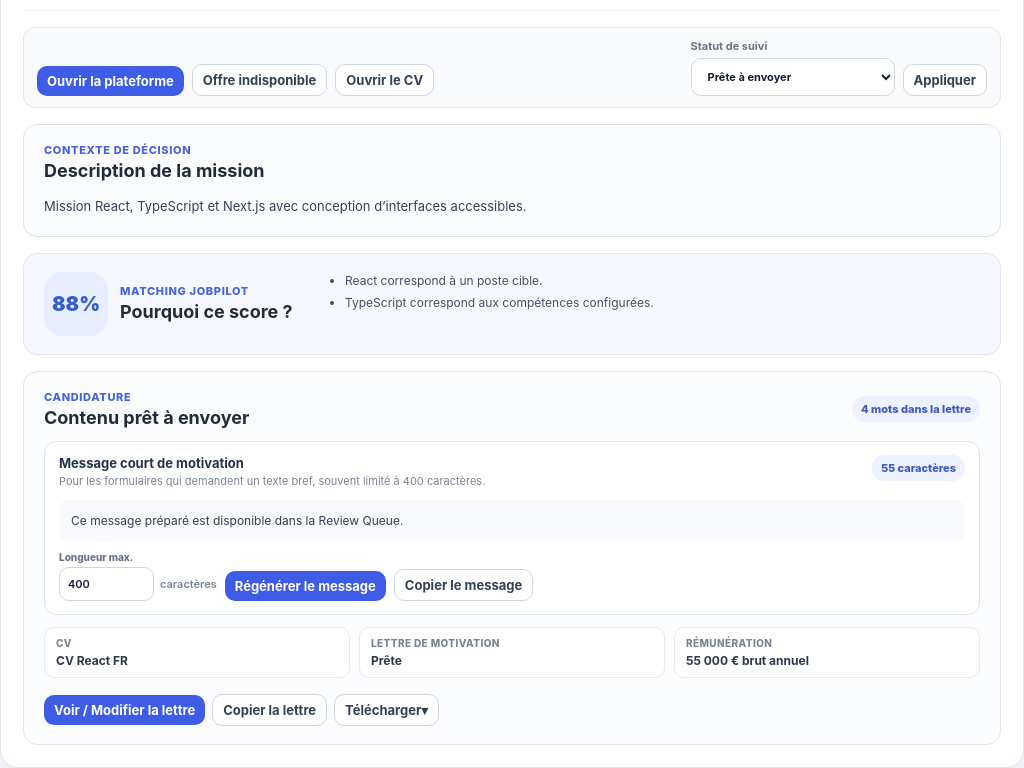
Test: ReviewQueueApplicationCard › edits and saves a cover letter from the drawer without changing the application status
(page scrolled)
Click the button "Voir / Modifier la lettre" at (125, 710), box [44,695,205,725]
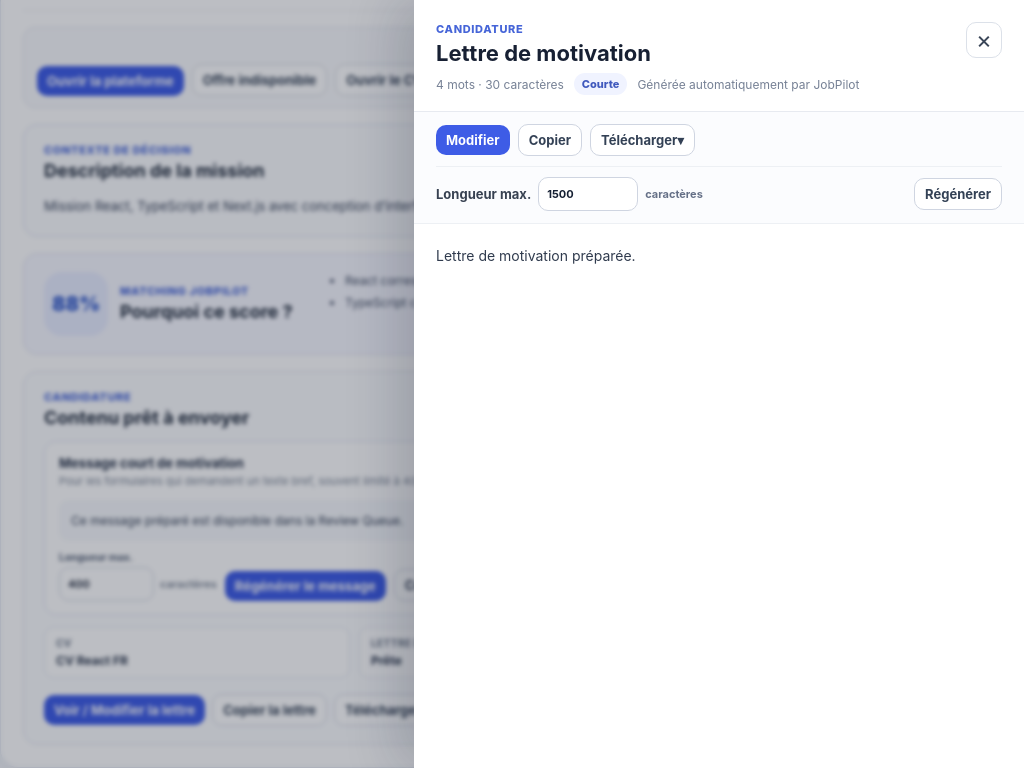
Click the button "Modifier" at (473, 140), box [436,125,510,155]
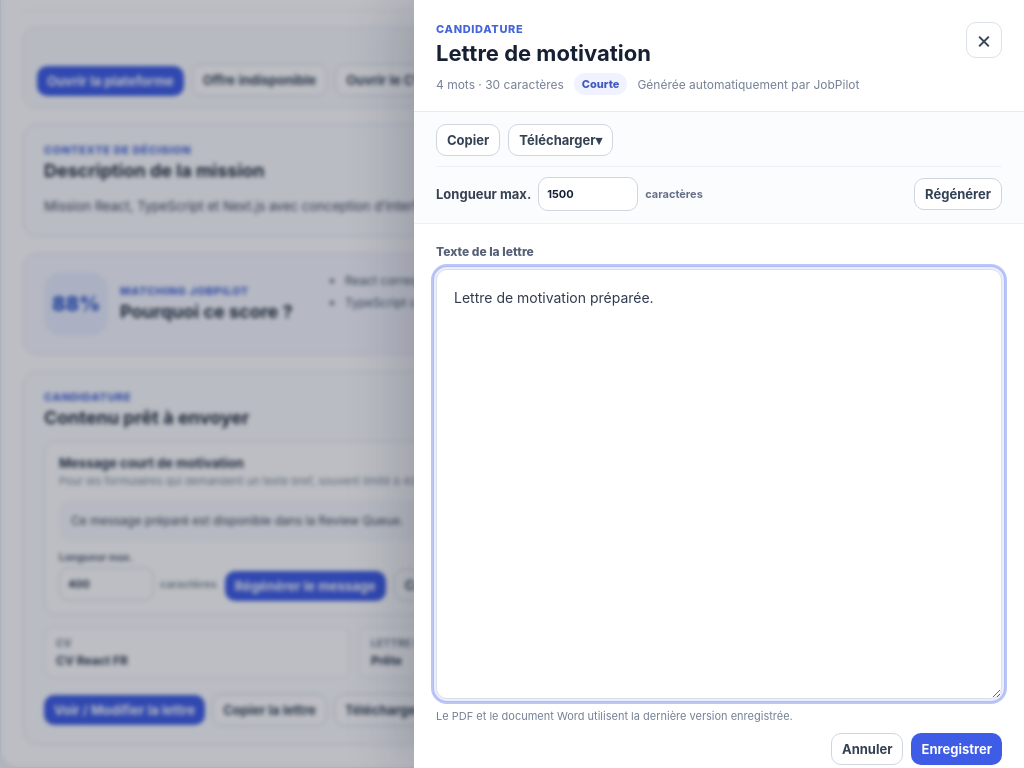
Expected: the text box labelled "Texte de la lettre" holds "Lettre de motivation préparée."
Replace the text in the text box labelled "Texte de la lettre" with "Lettre personnalisée." at (719, 484), box [436,269,1002,699]
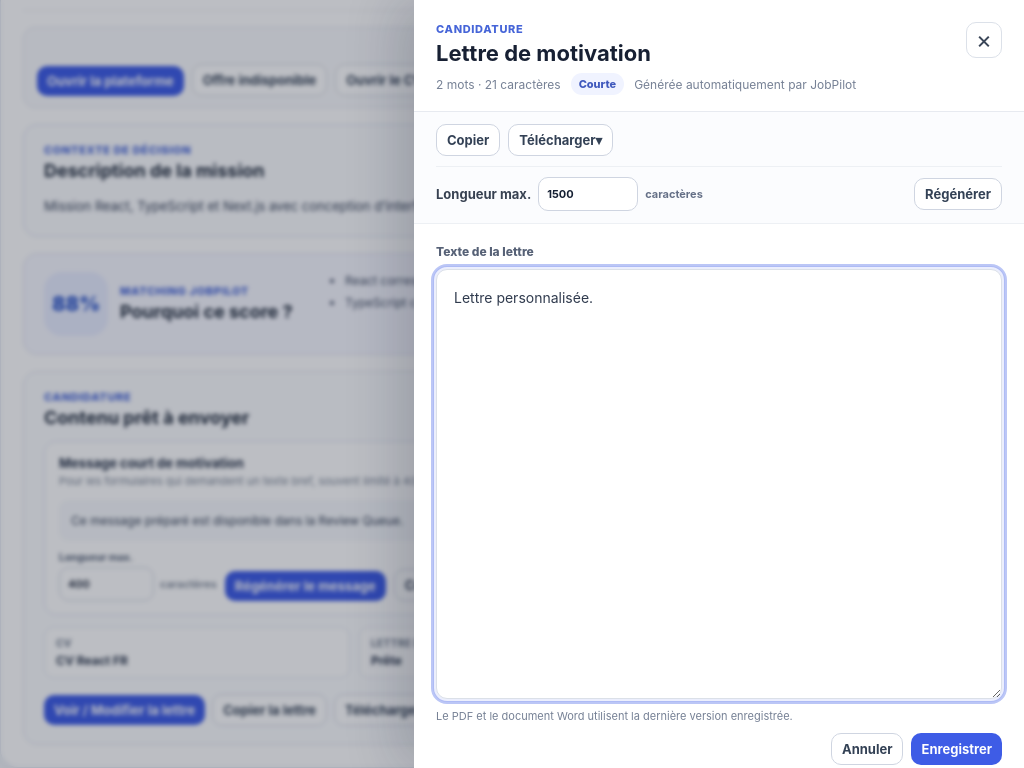
Click the button "Enregistrer" at (957, 749), box [912,733,1002,765]
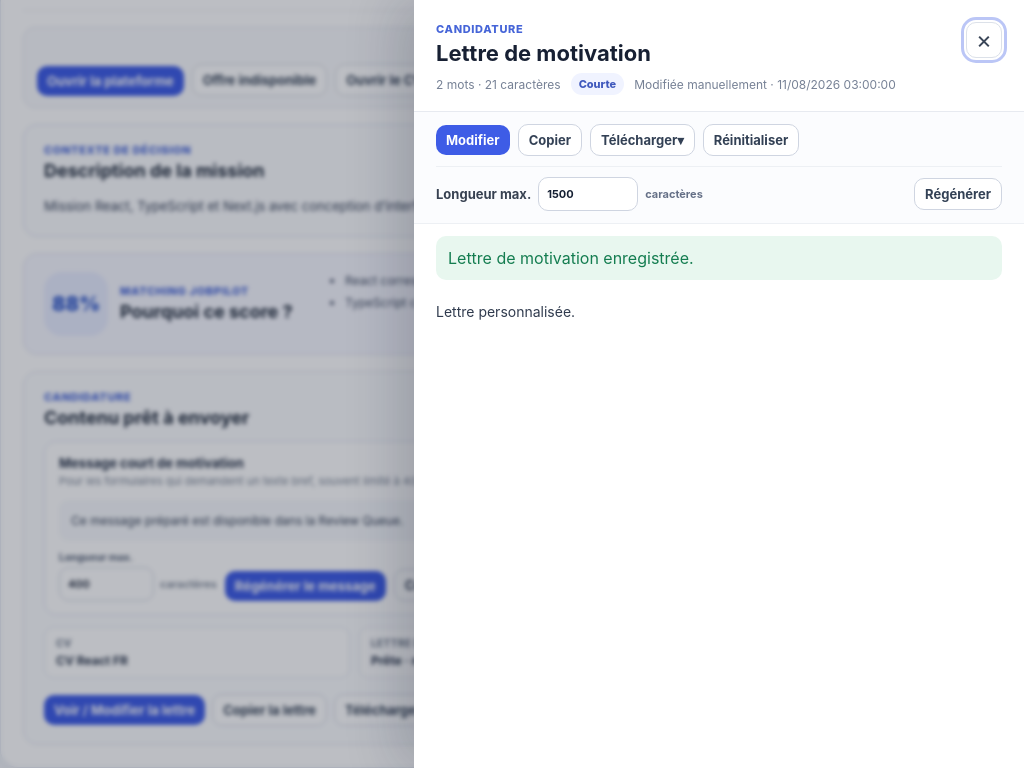
Expected: the text "Lettre personnalisée." is shown, [436,303,575,320]
Expected: the text "Modifiée manuellement · 11/08/2026 03:00:00" is shown, [634,77,896,92]
Expected: the message reads "Lettre de motivation enregistrée.", [448,248,694,268]
